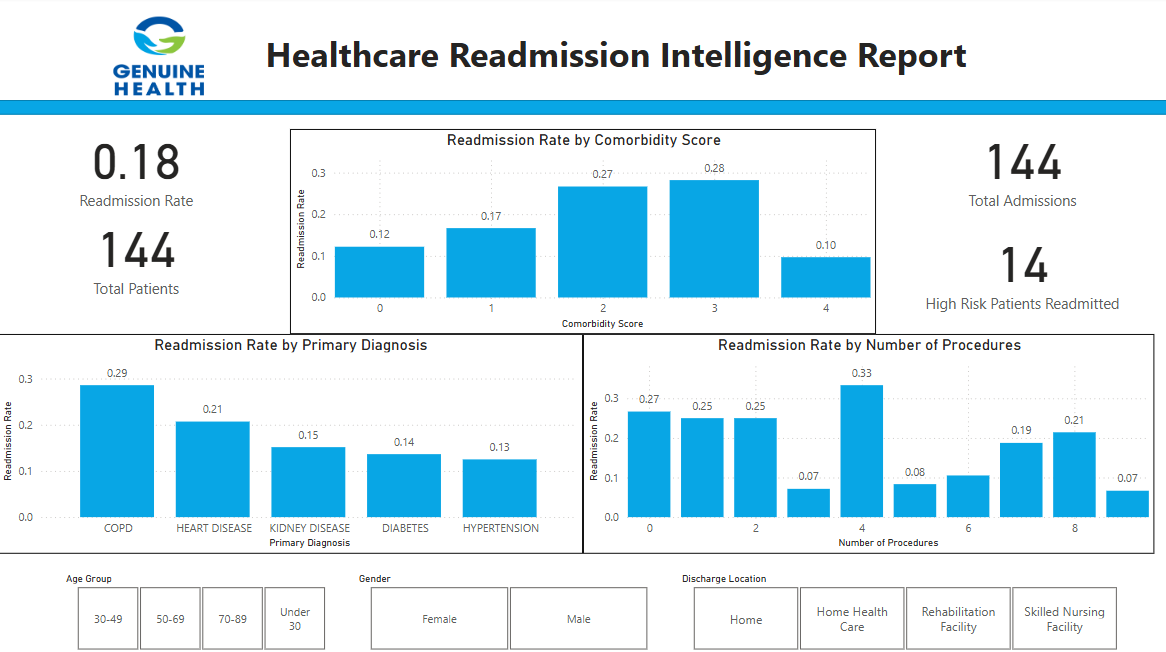

This screenshot's page, from the dashboard's own definition file:
{"tool":"powerbi","page":{"name":"Page 1","canvas":[1280,720],"ordinal":0},"visuals":[{"type":"card","fields":{"Values":["Count(vw_patient_summary.patient_id)"]},"box":[0,224,304,112],"z":0},{"type":"actionButton","box":[0,0,100,40],"z":1000},{"type":"card","fields":{"Values":["CountNonNull(vw_patient_summary.admission_id)"]},"box":[960,128,320,112],"z":2000},{"type":"card","fields":{"Values":["Avg(vw_patient_summary.readmitted_flag)"]},"box":[0,128,304,112],"z":3000},{"type":"card","fields":{"Values":["vw_patient_summary.HighRiskReadmitted"]},"box":[960,240,320,112],"z":4000},{"type":"clusteredColumnChart","fields":{"Y":["Avg(vw_patient_summary.readmitted_flag)"],"Category":["vw_patient_summary.primary_diagnosis"]},"box":[0,368,640,240],"z":5000},{"type":"clusteredColumnChart","fields":{"Category":["vw_patient_summary.num_procedures"],"Y":["Avg(vw_patient_summary.readmitted_flag)"]},"box":[640,368,624,240],"z":6000},{"type":"shape","box":[0,112,1280,16],"z":7000},{"type":"clusteredColumnChart","fields":{"Category":["vw_patient_summary.comorbidity_score"],"Y":["Avg(vw_patient_summary.readmitted_flag)"]},"box":[320,144,640,224],"z":8000},{"type":"slicer","fields":{"Values":["vw_patient_summary.AgeGroup"]},"box":[62.5,624,320,96],"z":9000},{"type":"slicer","fields":{"Values":["vw_patient_summary.gender"]},"box":[382.5,624,352,96],"z":10000},{"type":"slicer","fields":{"Values":["vw_patient_summary.discharge_to"]},"box":[734.5,624,512,96],"z":11000},{"type":"textbox","box":[288,32,832,80],"z":12000},{"type":"image","box":[48,16,256,96],"z":12001}]}

Visuals, with their boxes in screenshot pixels (x1, y1, x2, y2), scaled from the page's 1280x720 canvas onto the 1166x652 screenshot:
card - Count(vw_patient_summary.patient_id): (left=0, top=203, right=277, bottom=304)
actionButton: (left=0, top=0, right=91, bottom=36)
card - CountNonNull(vw_patient_summary.admission_id): (left=874, top=116, right=1165, bottom=217)
card - Avg(vw_patient_summary.readmitted_flag): (left=0, top=116, right=277, bottom=217)
card - vw_patient_summary.HighRiskReadmitted: (left=874, top=217, right=1165, bottom=319)
clusteredColumnChart - Avg(vw_patient_summary.readmitted_flag) x vw_patient_summary.primary_diagnosis: (left=0, top=333, right=583, bottom=551)
clusteredColumnChart - vw_patient_summary.num_procedures x Avg(vw_patient_summary.readmitted_flag): (left=583, top=333, right=1151, bottom=551)
shape: (left=0, top=101, right=1165, bottom=116)
clusteredColumnChart - vw_patient_summary.comorbidity_score x Avg(vw_patient_summary.readmitted_flag): (left=292, top=130, right=874, bottom=333)
slicer - vw_patient_summary.AgeGroup: (left=57, top=565, right=348, bottom=651)
slicer - vw_patient_summary.gender: (left=348, top=565, right=669, bottom=651)
slicer - vw_patient_summary.discharge_to: (left=669, top=565, right=1135, bottom=651)
textbox: (left=262, top=29, right=1020, bottom=101)
image: (left=44, top=14, right=277, bottom=101)
